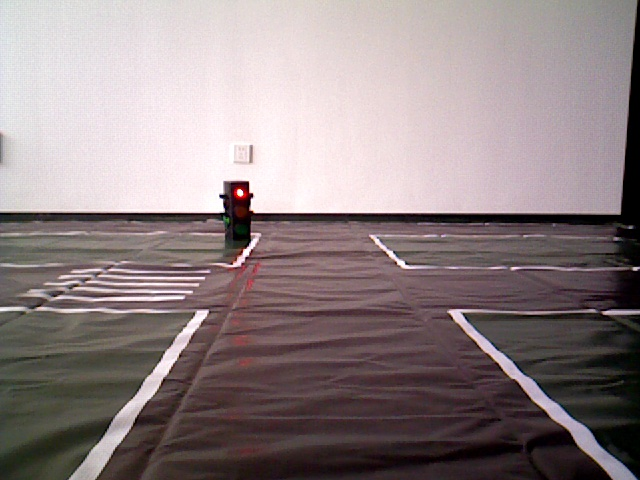red: (224, 185, 249, 240)
